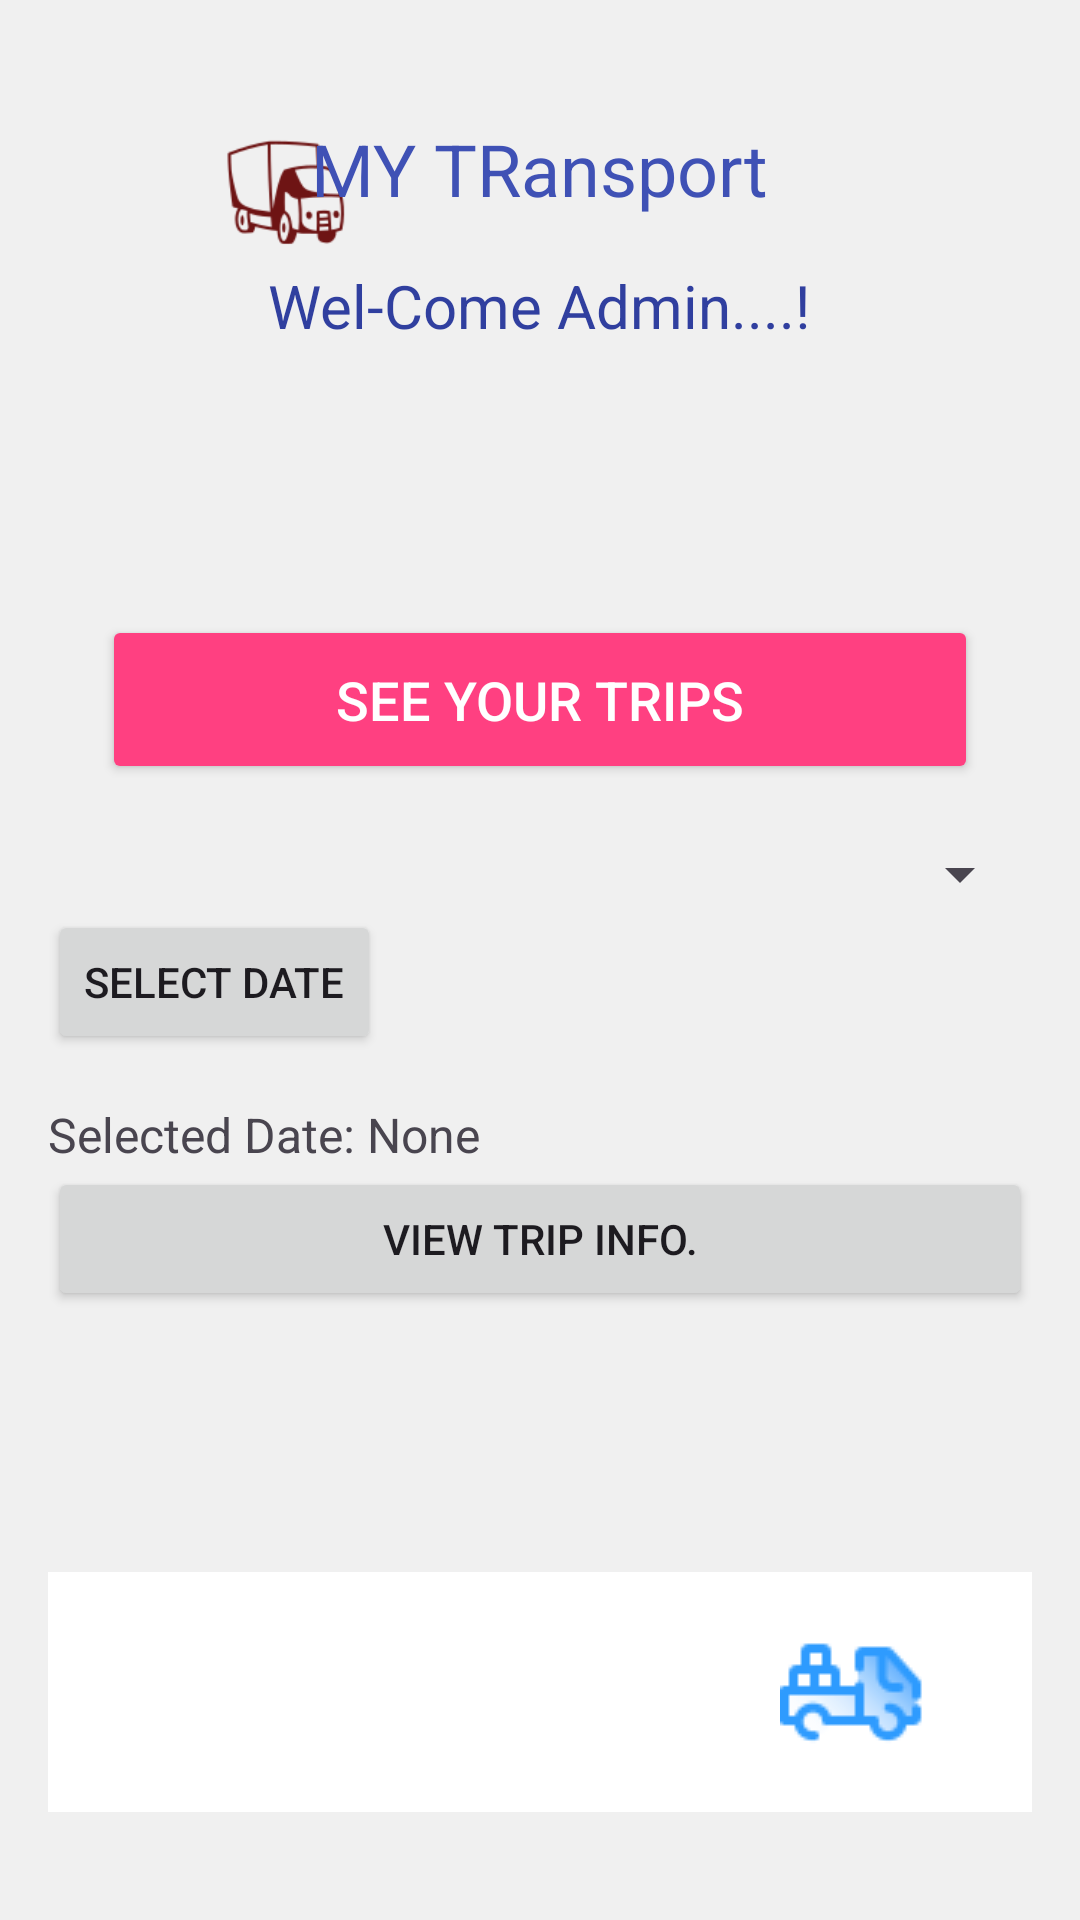

Icon bounding boxes for this 1080 × 1920 phone screenshot, format [x1=x1, y1=y1, x2=x2, y2=y2]:
trip: [x1=780, y1=1643, x2=922, y2=1741]
